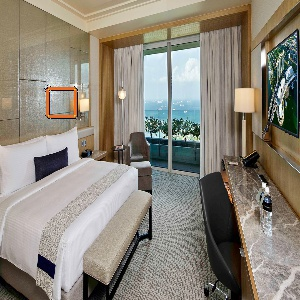square: (44, 85, 80, 120)
